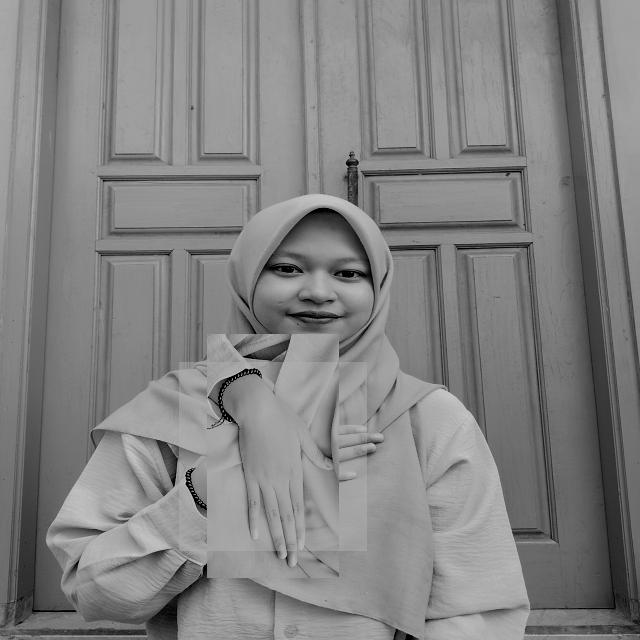tolong: (179, 362, 367, 551)
